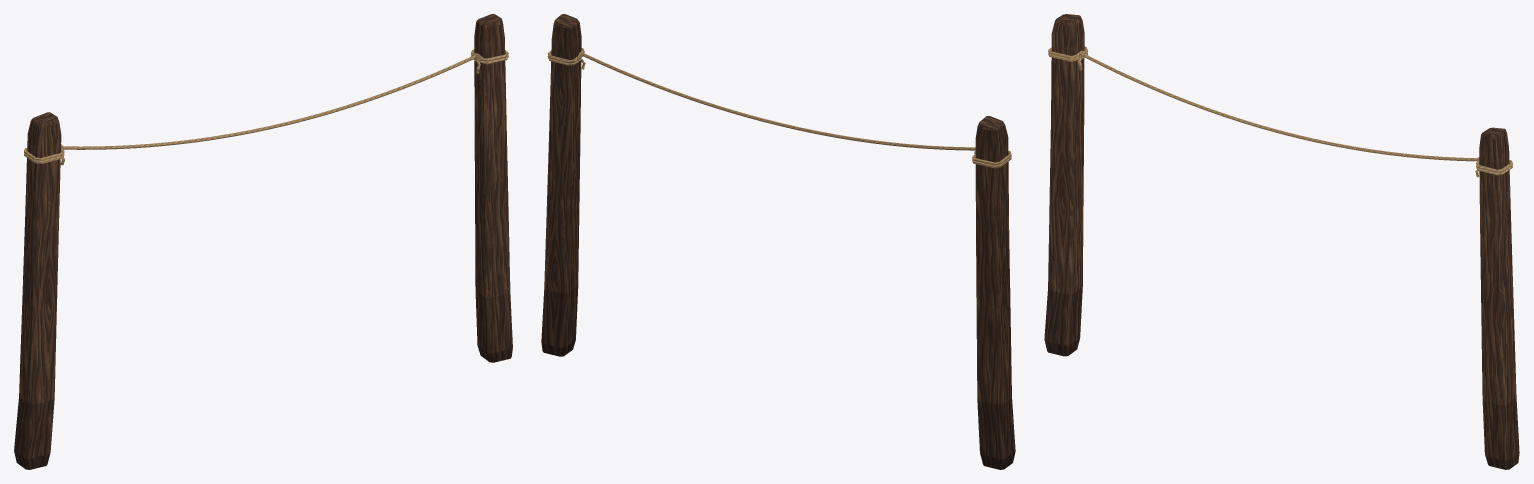
File: Varal-de-Madeira.glb
3 renders of one model, left to right at view 1: azimuth 30°, elevation 25°; view 2: azimuth 150°, elevation 25°; view 3: azimuth 330°, elevation 25°, orthographic. The views are drawn at different scales.
Visible parts, largest first — view 1: Postes de madeira, Varal de corda; view 2: Postes de madeira, Varal de corda; view 3: Postes de madeira, Varal de corda.
Part boxes in pixels (bbox=[...]): Postes de madeira: bbox=[14, 14, 512, 469]; Varal de corda: bbox=[24, 49, 508, 165]; Postes de madeira: bbox=[541, 14, 1015, 469]; Varal de corda: bbox=[547, 48, 1011, 168]; Postes de madeira: bbox=[1044, 14, 1519, 469]; Varal de corda: bbox=[1048, 46, 1512, 177].
Size of the model in its own units: 2.49 by 1.72 by 0.1985.
2 materials, 2 textured.
